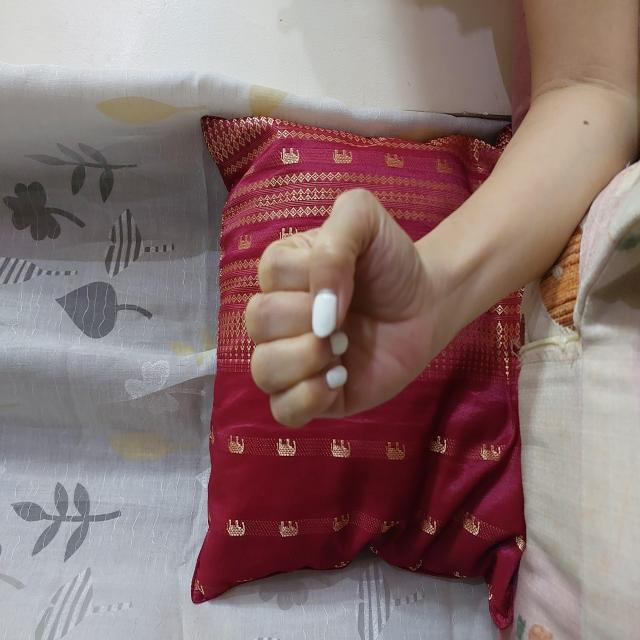S: (209, 244, 455, 434)
